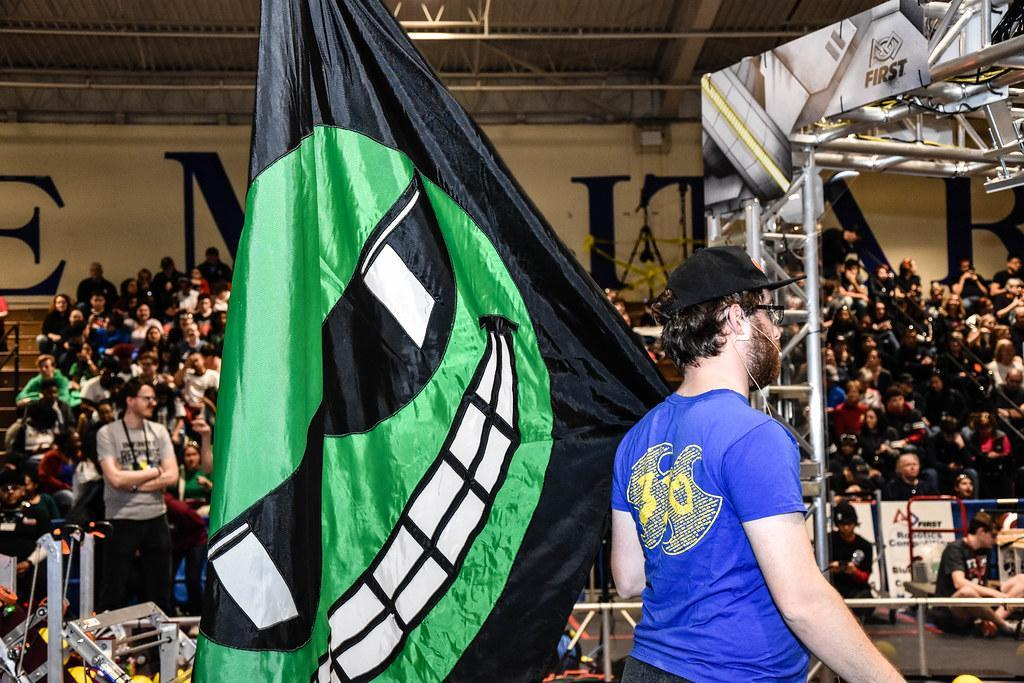robot: (0, 513, 197, 683)
